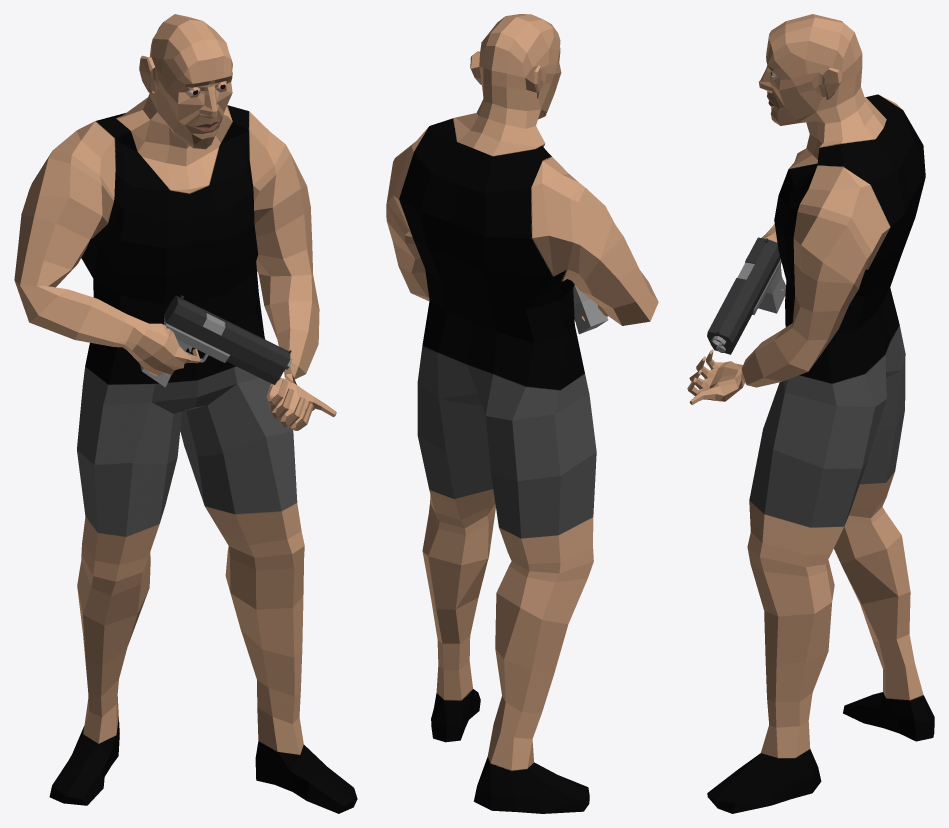
Rendered from PlayerIdle(0).obj.
The picture shows the model from 3 angles, left to right: view 1: azimuth 30°, elevation 25°; view 2: azimuth 150°, elevation 25°; view 3: azimuth 270°, elevation 25°; orthographic projection. The views are drawn at different scales.
Parts seen in each view (by area): view 1: Plane002, Box003; view 2: Plane002, Box003; view 3: Plane002, Box003.
Boxes of the visible parts, x1,y1,x2,y2 form: Plane002: (14, 14, 357, 813); Box003: (140, 295, 292, 387); Plane002: (386, 14, 658, 813); Box003: (573, 284, 608, 334); Plane002: (687, 14, 934, 813); Box003: (707, 237, 785, 354).
Size of the model in its own units: 679 by 1806 by 548.
